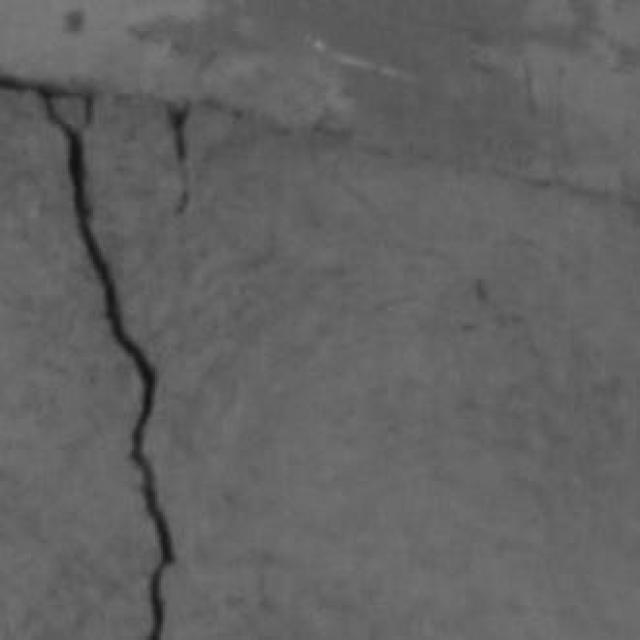crack: (37, 88, 174, 639), (150, 96, 255, 211), (167, 103, 190, 215)
